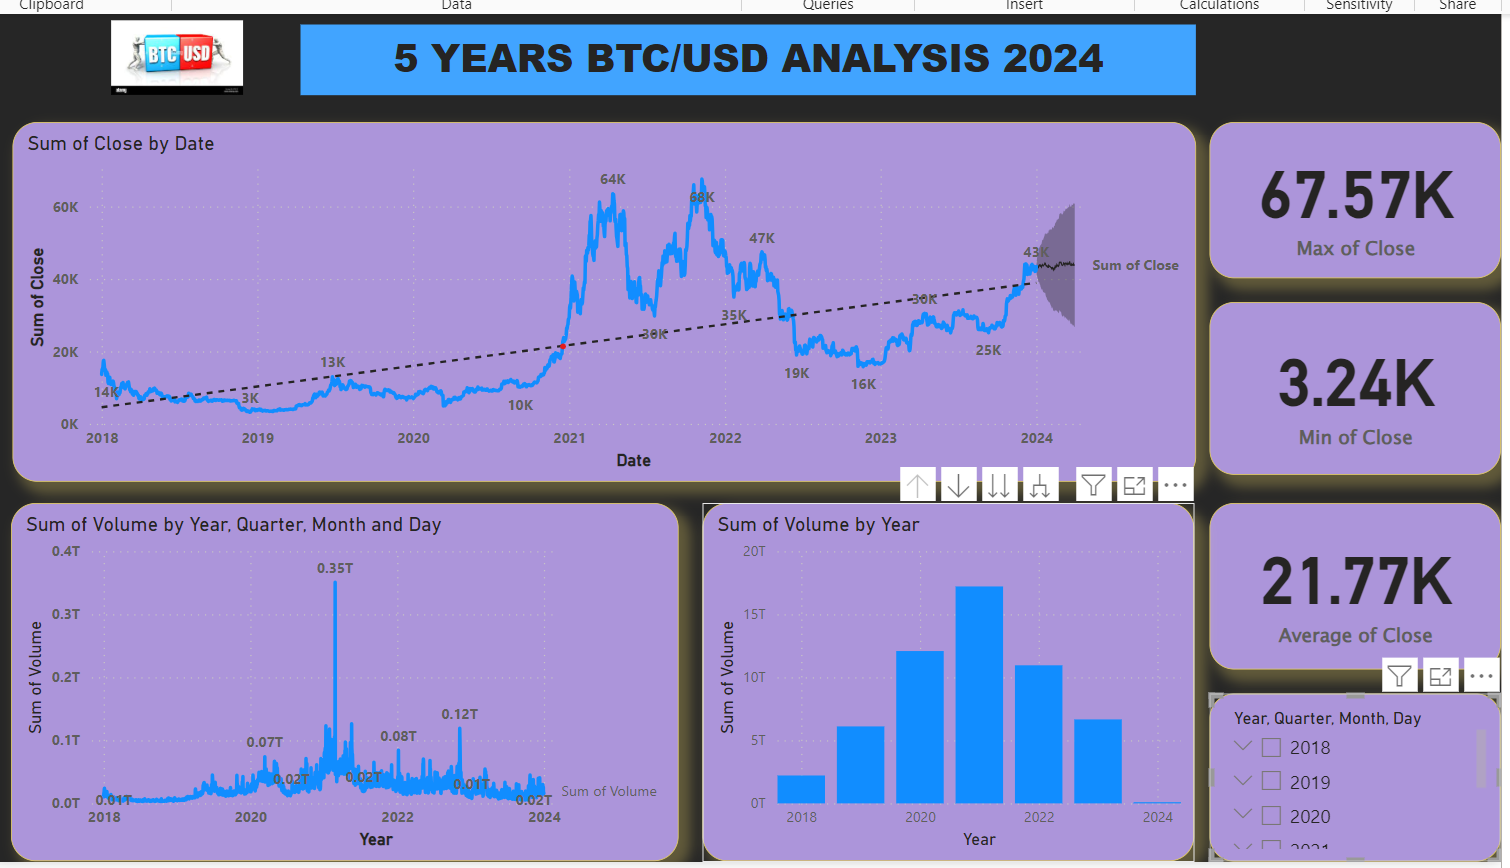

This screenshot's page, from the dashboard's own definition file:
{"tool":"powerbi","page":{"name":"Page 1","canvas":[1280,720],"ordinal":0},"visuals":[{"type":"lineChart","fields":{"Y":["Sum(BTC-USD (2).Close)"],"Category":["BTC-USD (2).Date"]},"box":[16.6,91.7,1004.6,305.6],"z":0},{"type":"lineChart","fields":{"Y":["Sum(BTC-USD (2).Volume)"],"Category":["BTC-USD (2).Date.Variation.Date Hierarchy.Year","BTC-USD (2).Date.Variation.Date Hierarchy.Quarter","BTC-USD (2).Date.Variation.Date Hierarchy.Month","BTC-USD (2).Date.Variation.Date Hierarchy.Day"]},"box":[15.3,415.1,566.6,304.3],"z":1000},{"type":"card","fields":{"Values":["Max(BTC-USD (2).Close)"]},"box":[1032.6,91.7,247,132.4],"z":2000},{"type":"slicer","fields":{"Values":["BTC-USD (2).Date.Variation.Date Hierarchy.Year","BTC-USD (2).Date.Variation.Date Hierarchy.Quarter","BTC-USD (2).Date.Variation.Date Hierarchy.Month","BTC-USD (2).Date.Variation.Date Hierarchy.Day"]},"box":[1032.6,576.8,247,142.6],"z":3000},{"type":"card","fields":{"Values":["Min(BTC-USD (2).Close)"]},"box":[1032.6,244.5,247,146.4],"z":4000},{"type":"image","box":[50.9,0,210.1,73.8],"z":5000},{"type":"textbox","box":[261,8.9,760.1,59.8],"z":6000},{"type":"card","fields":{"Values":["Avg(BTC-USD (2).Close)"]},"box":[1032.6,415.1,247,141.3],"z":7000},{"type":"clusteredColumnChart","fields":{"Y":["Sum(BTC-USD (2).Volume)"],"Category":["BTC-USD (2).Date.Variation.Date Hierarchy.Year","BTC-USD (2).Date.Variation.Date Hierarchy.Quarter","BTC-USD (2).Date.Variation.Date Hierarchy.Month","BTC-USD (2).Date.Variation.Date Hierarchy.Day"]},"box":[602.2,415.1,417.6,304.3],"z":8000}]}

Visuals, with their boxes on the page's 1280x720 design canvas (x1, y1, x2, y2). These are canvas units, not pixel positions in the 1510x868 screenshot, which may show the page scaled, cropped or inside an application window:
lineChart - Sum(BTC-USD (2).Close) x BTC-USD (2).Date: 17 92 1021 397
lineChart - Sum(BTC-USD (2).Volume) x BTC-USD (2).Date.Variation.Date Hierarchy.Year: 15 415 582 719
card - Max(BTC-USD (2).Close): 1033 92 1280 224
slicer - BTC-USD (2).Date.Variation.Date Hierarchy.Year x BTC-USD (2).Date.Variation.Date Hierarchy.Quarter: 1033 577 1280 719
card - Min(BTC-USD (2).Close): 1033 244 1280 391
image: 51 0 261 74
textbox: 261 9 1021 69
card - Avg(BTC-USD (2).Close): 1033 415 1280 556
clusteredColumnChart - Sum(BTC-USD (2).Volume) x BTC-USD (2).Date.Variation.Date Hierarchy.Year: 602 415 1020 719
